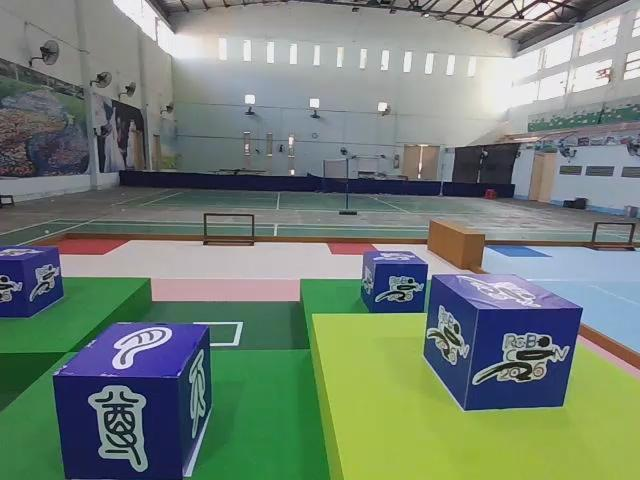R1 Blue: (423, 274, 581, 412), (0, 245, 63, 319), (358, 250, 427, 314)
R2 Fake Blue: (54, 320, 213, 480)
